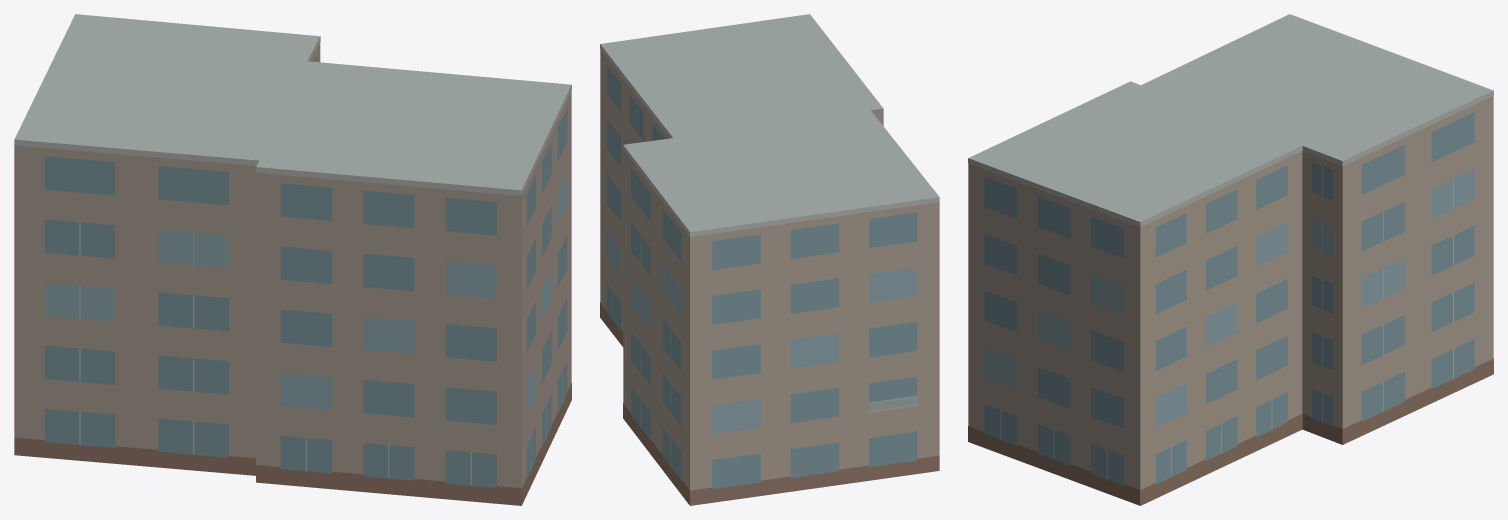
The model's file is survey-upis-32535935.glb.
The picture shows the model from 3 angles, left to right: view 1: azimuth 30°, elevation 25°; view 2: azimuth 150°, elevation 25°; view 3: azimuth 270°, elevation 25°; orthographic projection. The views are drawn at different scales.
Visible parts, largest first — view 1: survey-upis-32535935.tmp; view 2: survey-upis-32535935.tmp; view 3: survey-upis-32535935.tmp.
Boxes of the visible parts, x1=… form: survey-upis-32535935.tmp: x1=14, y1=14, x2=571, y2=505; survey-upis-32535935.tmp: x1=600, y1=14, x2=939, y2=505; survey-upis-32535935.tmp: x1=968, y1=14, x2=1493, y2=505.
Bounding box in the file's own units: 21.09 × 13.4 × 22.5.
